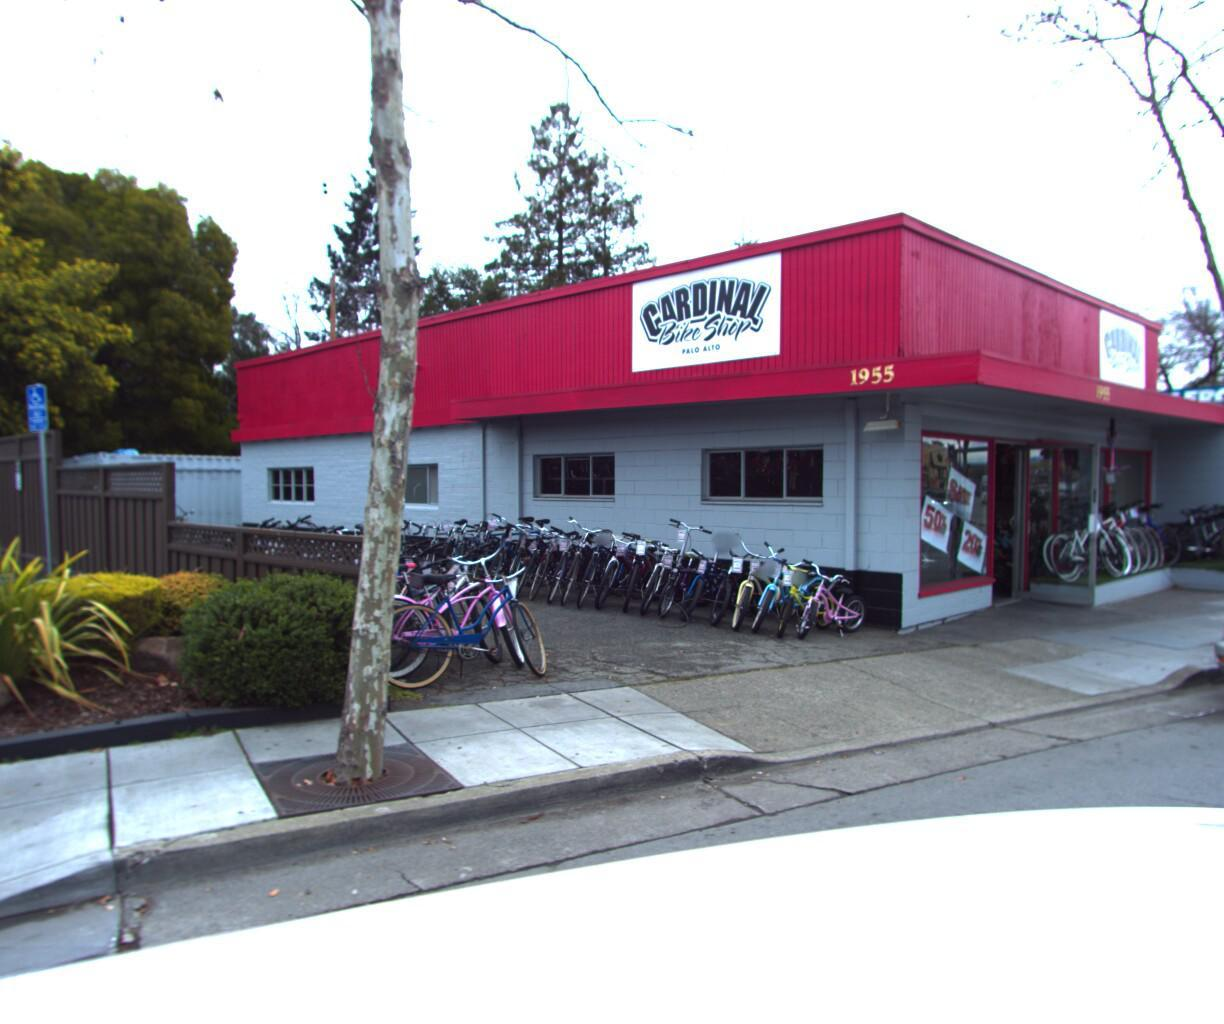bicycle: (356, 521, 550, 692), (372, 544, 574, 701), (336, 533, 529, 688), (320, 541, 507, 681), (303, 537, 484, 674), (268, 533, 445, 666), (288, 535, 461, 670), (215, 524, 372, 648), (207, 524, 362, 640), (183, 513, 331, 622), (178, 513, 323, 619), (193, 524, 342, 625), (167, 513, 312, 616), (155, 513, 296, 613), (709, 513, 817, 634), (636, 513, 743, 624), (689, 513, 788, 629), (662, 513, 762, 626), (734, 537, 843, 638), (539, 511, 647, 609), (522, 515, 631, 607), (773, 548, 879, 643), (574, 524, 682, 614), (506, 515, 613, 604), (493, 511, 597, 603), (620, 529, 726, 618), (556, 523, 661, 612), (603, 524, 703, 616), (466, 508, 566, 599), (481, 511, 582, 601), (1040, 494, 1144, 579), (1025, 496, 1131, 578), (1055, 498, 1156, 573), (1072, 495, 1172, 568), (1052, 498, 1155, 567), (460, 520, 550, 596), (1133, 492, 1224, 567), (429, 515, 515, 593), (413, 515, 501, 591), (441, 520, 530, 595), (1075, 499, 1173, 566), (1078, 499, 1174, 564), (244, 513, 313, 603), (1144, 491, 1224, 566), (269, 516, 338, 601), (1146, 491, 1224, 564), (325, 519, 394, 594), (1155, 491, 1224, 563), (305, 525, 374, 596), (1160, 491, 1224, 562), (1164, 490, 1224, 561), (408, 514, 460, 589), (1170, 490, 1224, 560), (1174, 490, 1224, 559), (1092, 410, 1122, 479)
car: (1183, 505, 1224, 758), (1170, 478, 1224, 544)
